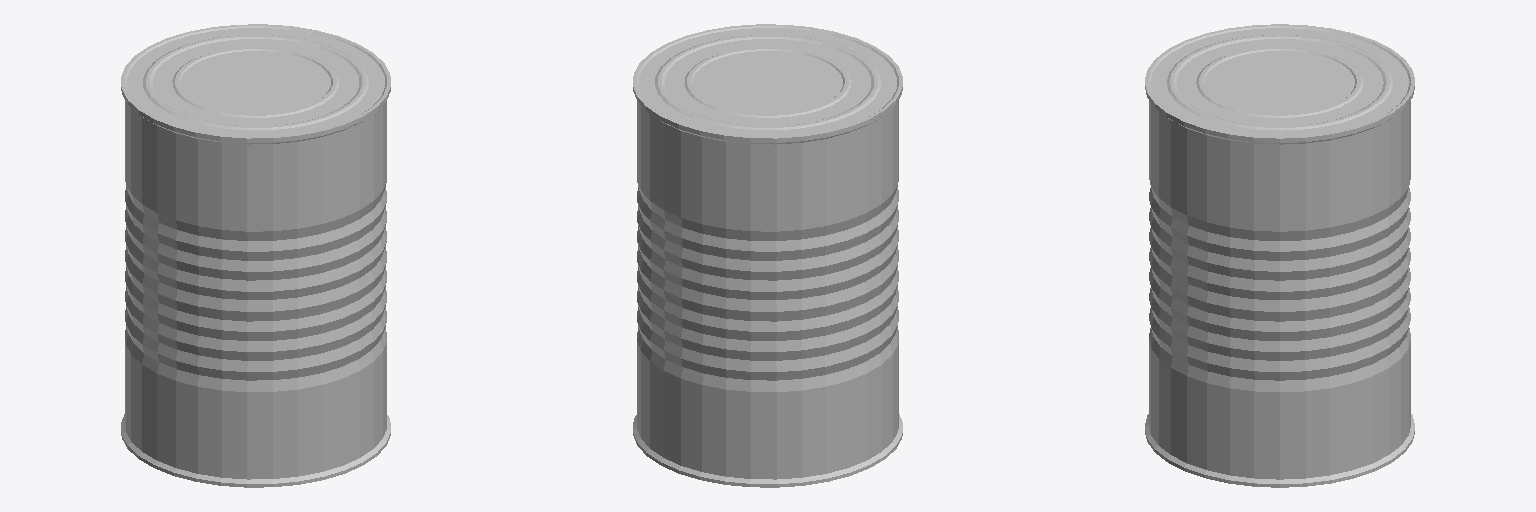
File: TinCan2.obj
The picture shows the model from 3 angles: view 1: azimuth 30°, elevation 25°; view 2: azimuth 150°, elevation 25°; view 3: azimuth 270°, elevation 25°; orthographic projection.
Parts seen in each view (by area): view 1: Cylinder.001; view 2: Cylinder.001; view 3: Cylinder.001.
Boxes of the visible parts, box(x1,y1,x2,y2) form: Cylinder.001: box(121, 24, 390, 487); Cylinder.001: box(633, 24, 902, 487); Cylinder.001: box(1145, 24, 1414, 487).
Size of the model in its own units: 2.06 by 2.93 by 2.06.